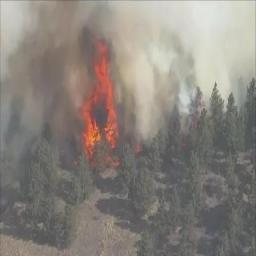Heavy smoke: (0, 7, 232, 163)
Small fire: (78, 39, 132, 161)
